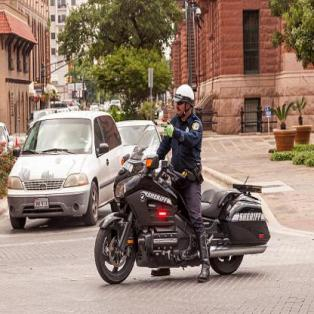Motocicleta: (95, 162, 267, 284)
